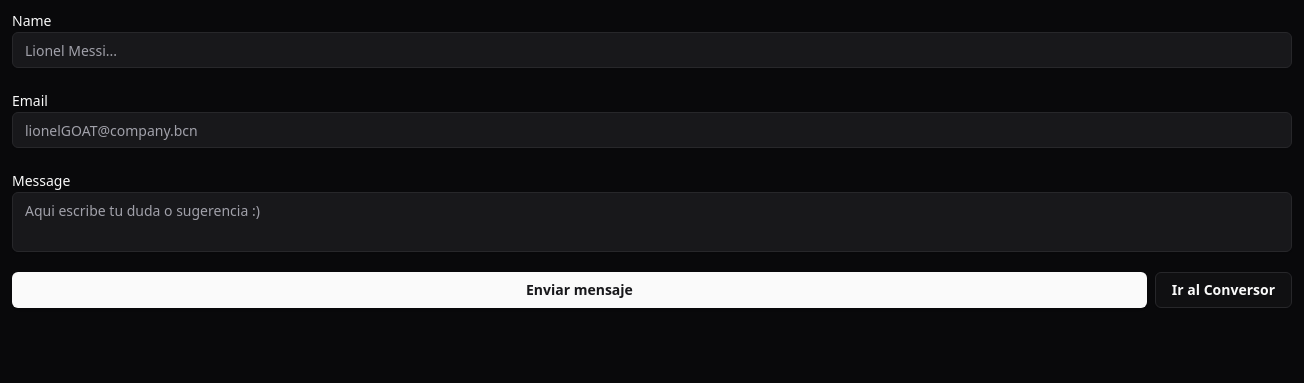
Contact Form Component - Errors Validation › Verifica que los mensajes de error desaparezcan después de corregir los campos
Note: Hacer clic en el botón y esperar la aparición del mensaje de error
Click the button "Enviar mensaje": (579, 290) [12,272,1147,308]
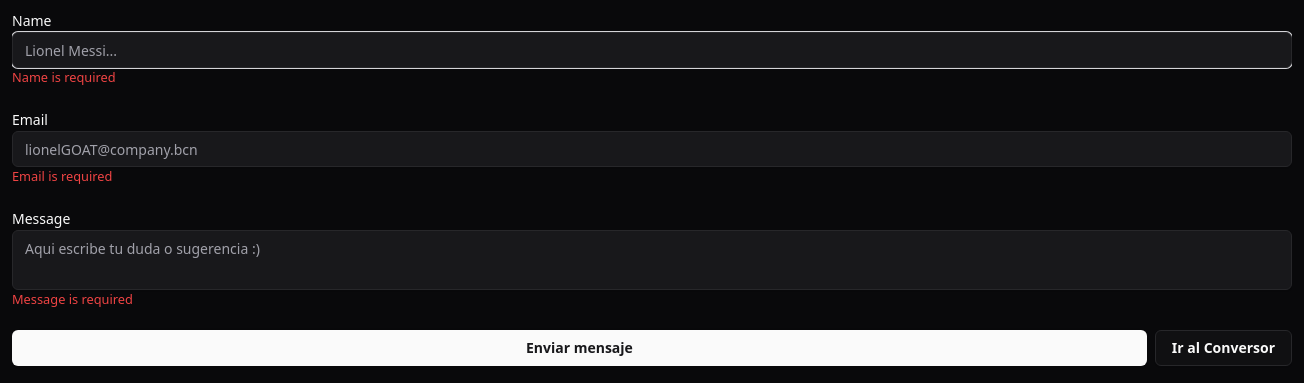
Check: the text "Name is required" is shown, box [12,68,116,86]
In the field with placeholder "Lionel Messi...": (652, 50) [12,32,1292,68], type "Lionel Messi GOAT"
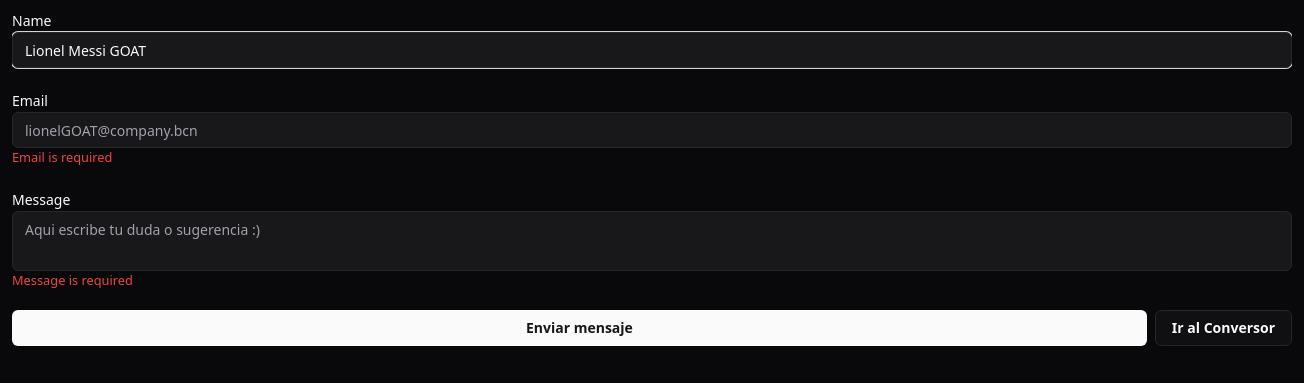
Check: the text "Name is required" is gone
